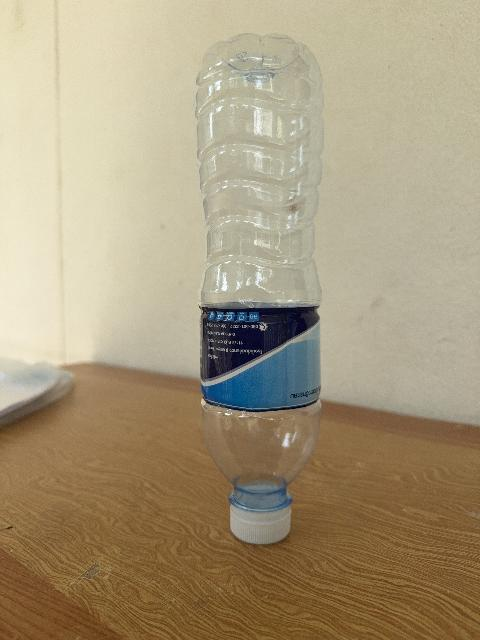bottle: (196, 34, 323, 543)
